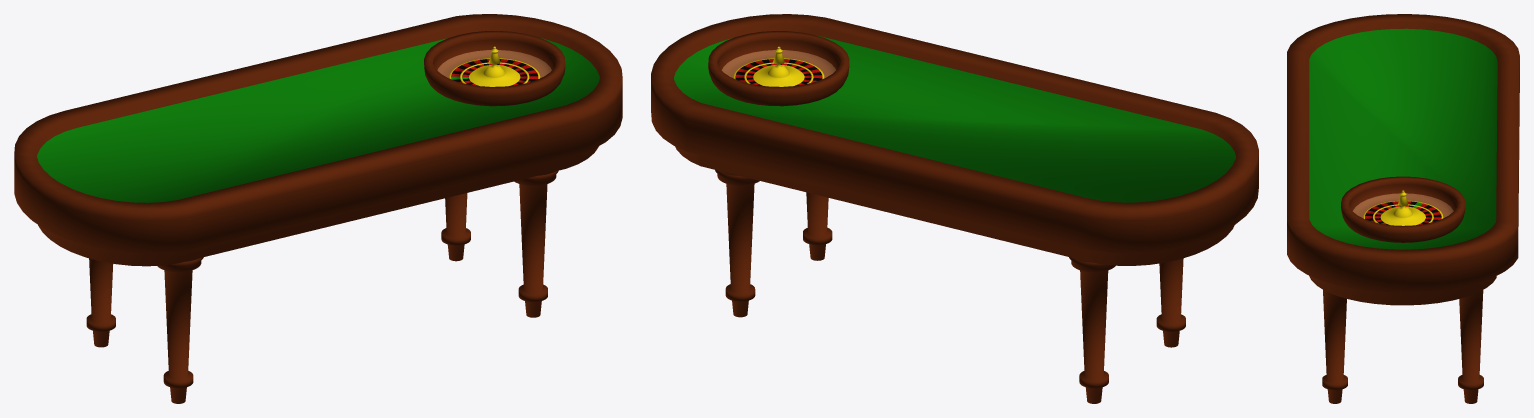
The model's file is table_roulette.fbx.
3 renders of one model, left to right at view 1: azimuth 30°, elevation 25°; view 2: azimuth 150°, elevation 25°; view 3: azimuth 270°, elevation 25°, orthographic. The views are drawn at different scales.
Visible parts, largest first — view 1: table; view 2: table; view 3: table.
Part boxes in pixels (<box>): table: <box>14,14,622,403</box>; table: <box>651,14,1258,403</box>; table: <box>1287,14,1519,403</box>.
Size of the model in its own units: 182 by 73.4 by 73.58.
